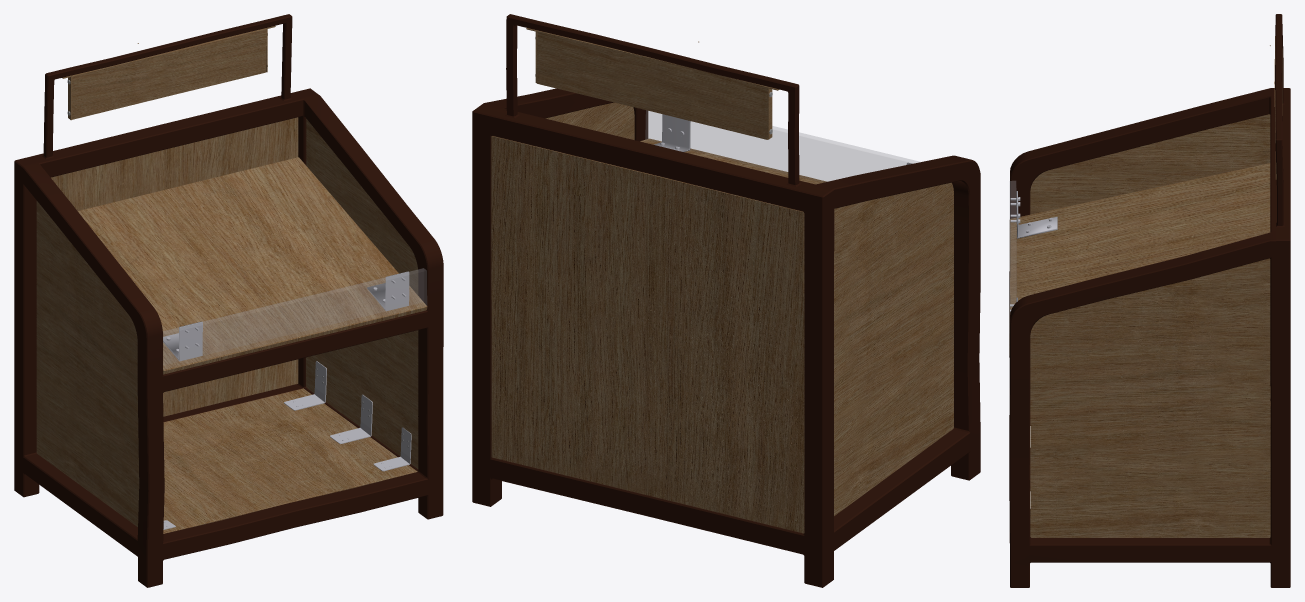
Rendered from schelfMiddleMetal.fbx.
3 views of the same model, side by side, from view 1: azimuth 30°, elevation 25°; view 2: azimuth 150°, elevation 25°; view 3: azimuth 270°, elevation 25° (orthographic). The views are drawn at different scales.
Visible parts, largest first — view 1: Structure, MainWood, SideWood, BottomWood, BackWood, Structure.003, Structure.001, Cube, Cube.003, Clamp.002, Clamp.007, Clamp.001; view 2: BackWood, Structure, SideWood, Structure.001, Structure.003, Cube, MainWood; view 3: SideWood, Structure, MainWood, Structure.003, Cube.003.
Boxes of the visible parts, box(x1,y1,x2,y2) form: Structure: box(14, 14, 443, 587); MainWood: box(77, 157, 427, 374); SideWood: box(36, 119, 418, 526); BottomWood: box(163, 388, 417, 533); BackWood: box(51, 117, 298, 416); Structure.003: box(163, 268, 426, 369); Structure.001: box(71, 28, 266, 119); Cube: box(367, 271, 409, 311); Cube.003: box(163, 321, 202, 361); Clamp.002: box(284, 361, 326, 410); Clamp.007: box(330, 394, 372, 443); Clamp.001: box(373, 427, 411, 471); BackWood: box(491, 136, 804, 533); Structure: box(472, 14, 980, 587); SideWood: box(545, 102, 953, 515); Structure.001: box(536, 30, 767, 139); Structure.003: box(645, 110, 919, 181); Cube: box(654, 114, 690, 151); MainWood: box(640, 138, 826, 184); SideWood: box(1030, 114, 1270, 537); Structure: box(1009, 14, 1290, 587); MainWood: box(1009, 163, 1270, 355); Structure.003: box(1010, 181, 1016, 310); Cube.003: box(1016, 191, 1057, 238).
Size of the model in its own units: 90.33 by 124 by 70.16.
